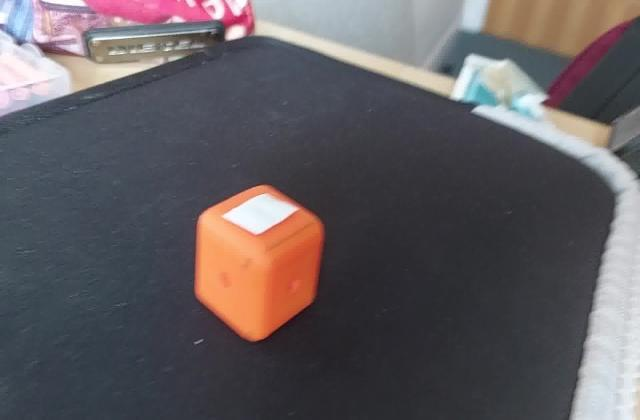cube: (193, 175, 330, 343)
white: (228, 200, 292, 240)
